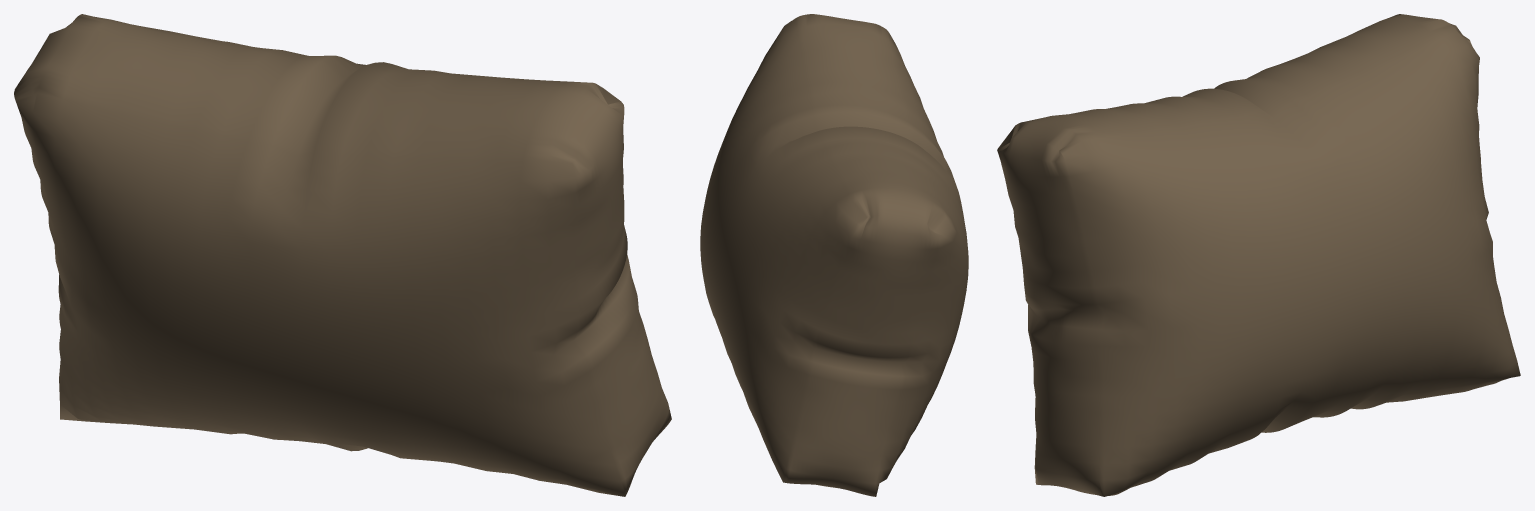
The model's file is coussin5.glb.
The picture shows the model from 3 angles, left to right: view 1: azimuth 30°, elevation 25°; view 2: azimuth 150°, elevation 25°; view 3: azimuth 270°, elevation 25°; orthographic projection. The views are drawn at different scales.
Visible parts, largest first — view 1: Coussin.005; view 2: Coussin.005; view 3: Coussin.005.
Part boxes in pixels (left/top/right/bottom): Coussin.005: left=14, top=14, right=671, bottom=496; Coussin.005: left=700, top=14, right=968, bottom=496; Coussin.005: left=997, top=14, right=1520, bottom=496.
Size of the model in its own units: 4.29 by 3.58 by 4.68.
